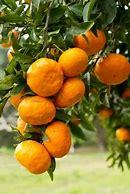orange: (21, 55, 67, 97), (53, 45, 95, 77), (96, 53, 130, 86)
